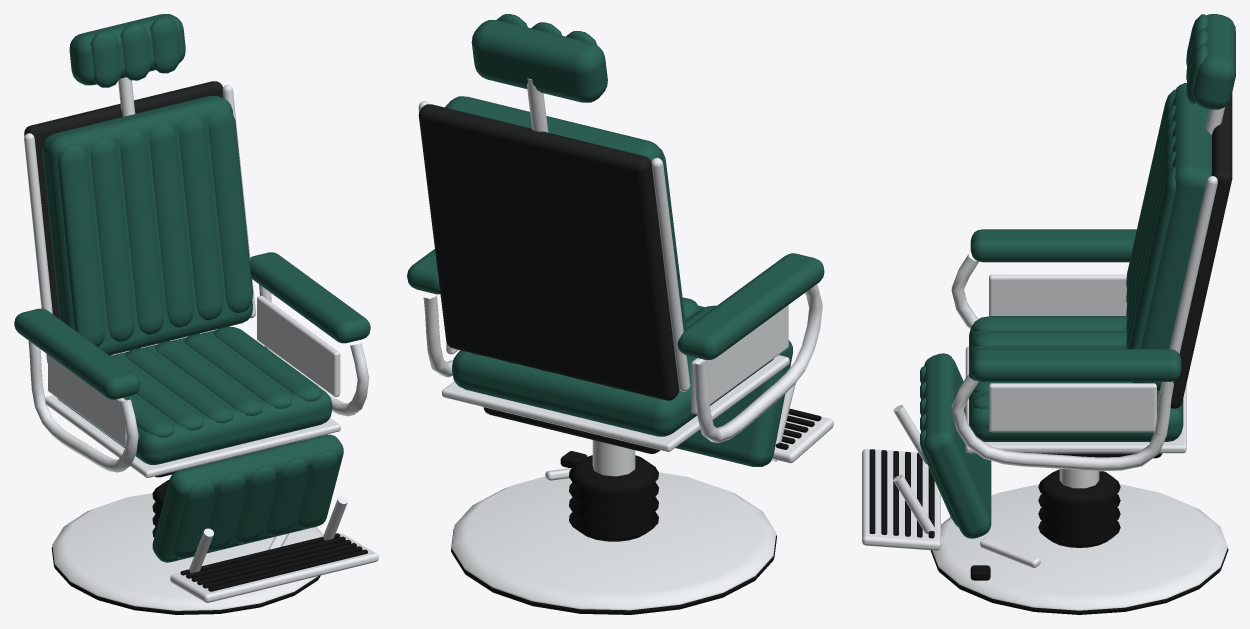
Rendered from barber-chair-mobile.glb.
The picture shows the model from 3 angles, left to right: view 1: azimuth 30°, elevation 25°; view 2: azimuth 150°, elevation 25°; view 3: azimuth 270°, elevation 25°; orthographic projection. The views are drawn at different scales.
Parts seen in each view (by area): view 1: Leather, Chrome, Rubber, BlackMetal; view 2: BlackMetal, Chrome, Leather, Rubber; view 3: Chrome, Leather, Rubber, BlackMetal.
Boxes of the visible parts, x1,y1,x2,y2 form: Leather: [14, 14, 370, 562]; Chrome: [24, 77, 378, 610]; Rubber: [51, 480, 367, 614]; BlackMetal: [24, 81, 295, 477]; BlackMetal: [418, 104, 679, 453]; Chrome: [418, 78, 833, 610]; Leather: [407, 14, 824, 466]; Rubber: [451, 408, 821, 614]; Chrome: [862, 107, 1227, 610]; Leather: [920, 14, 1235, 538]; Rubber: [869, 449, 1228, 614]; BlackMetal: [1036, 93, 1232, 458].
Bounding box in the file's own units: 1.98 × 3.5 × 2.27.
